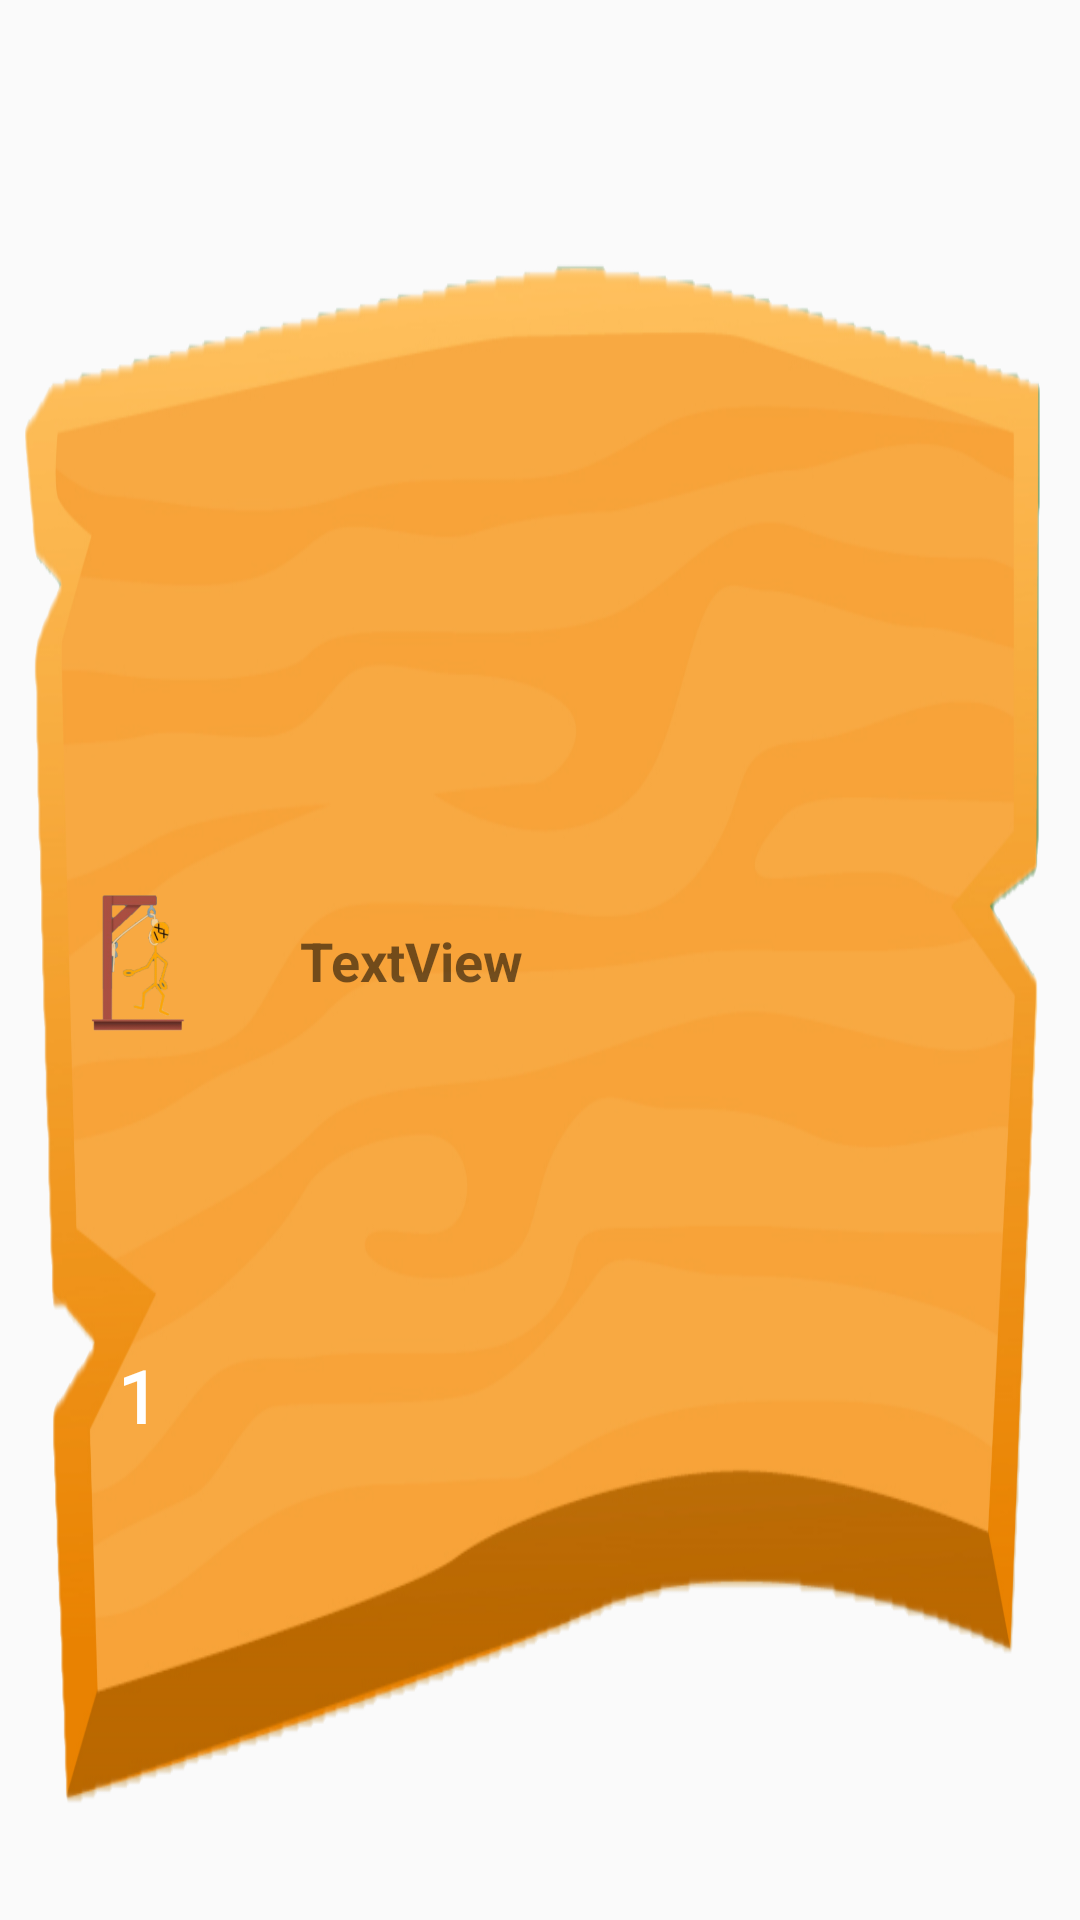

Icons on this 1080 x 1920 Android screen, each with the point to tap as (x=x, y=y):
forkert: (x=127, y=972)
